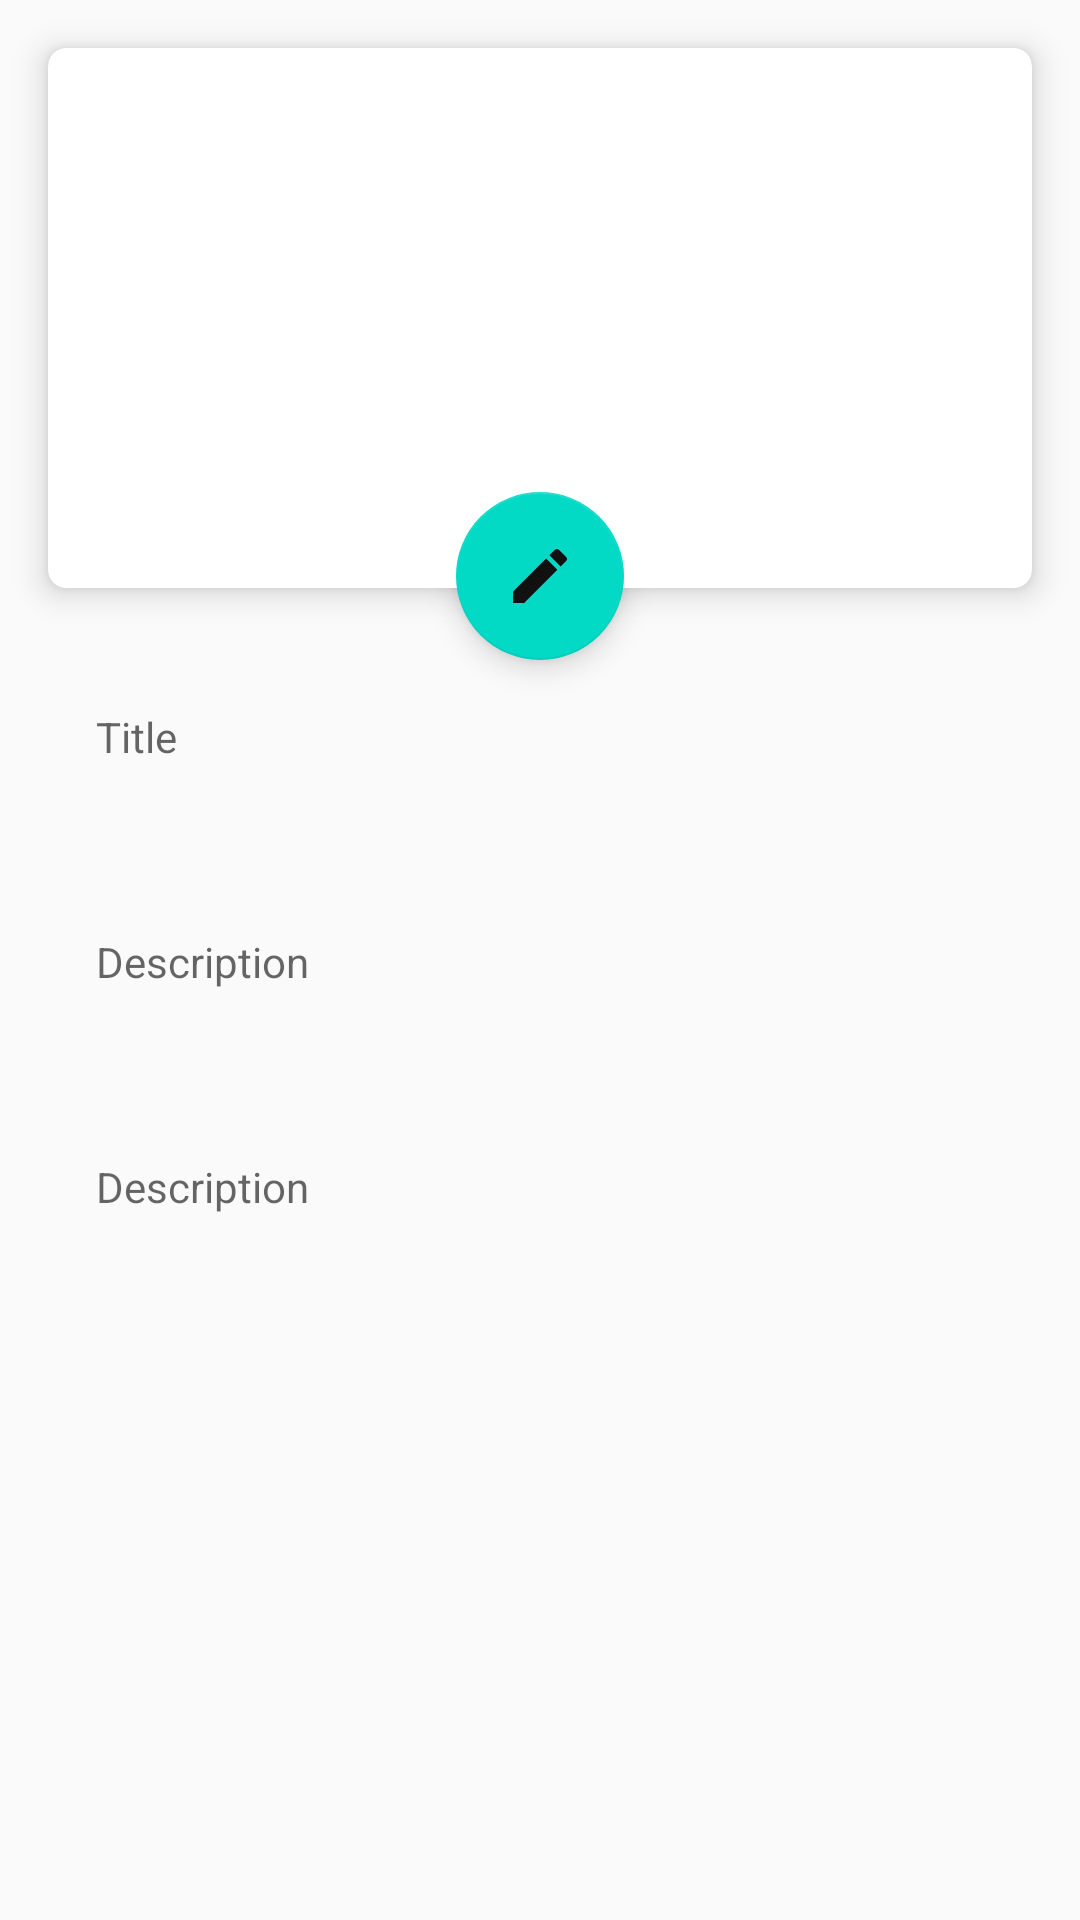

Icon bounding boxes for this 1080×1920 phone screenshot, format (x1, y1, x2, y2):
edit: (456, 492, 624, 660)
